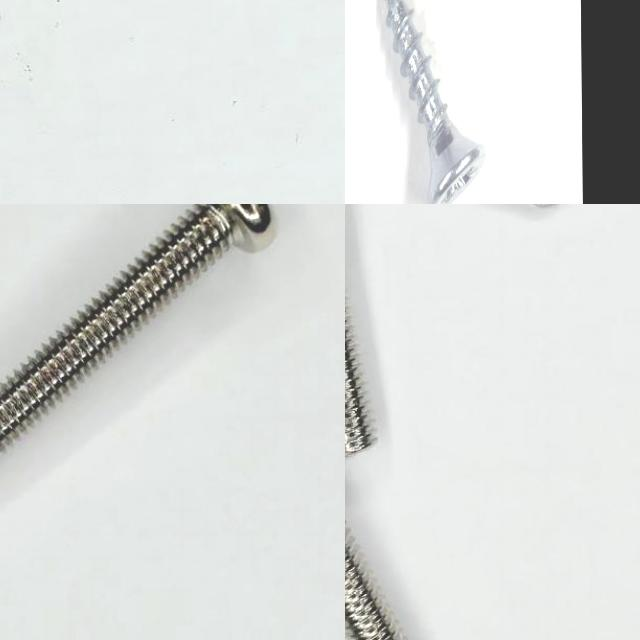Screw: (0, 204, 276, 452), (385, 0, 486, 204)
